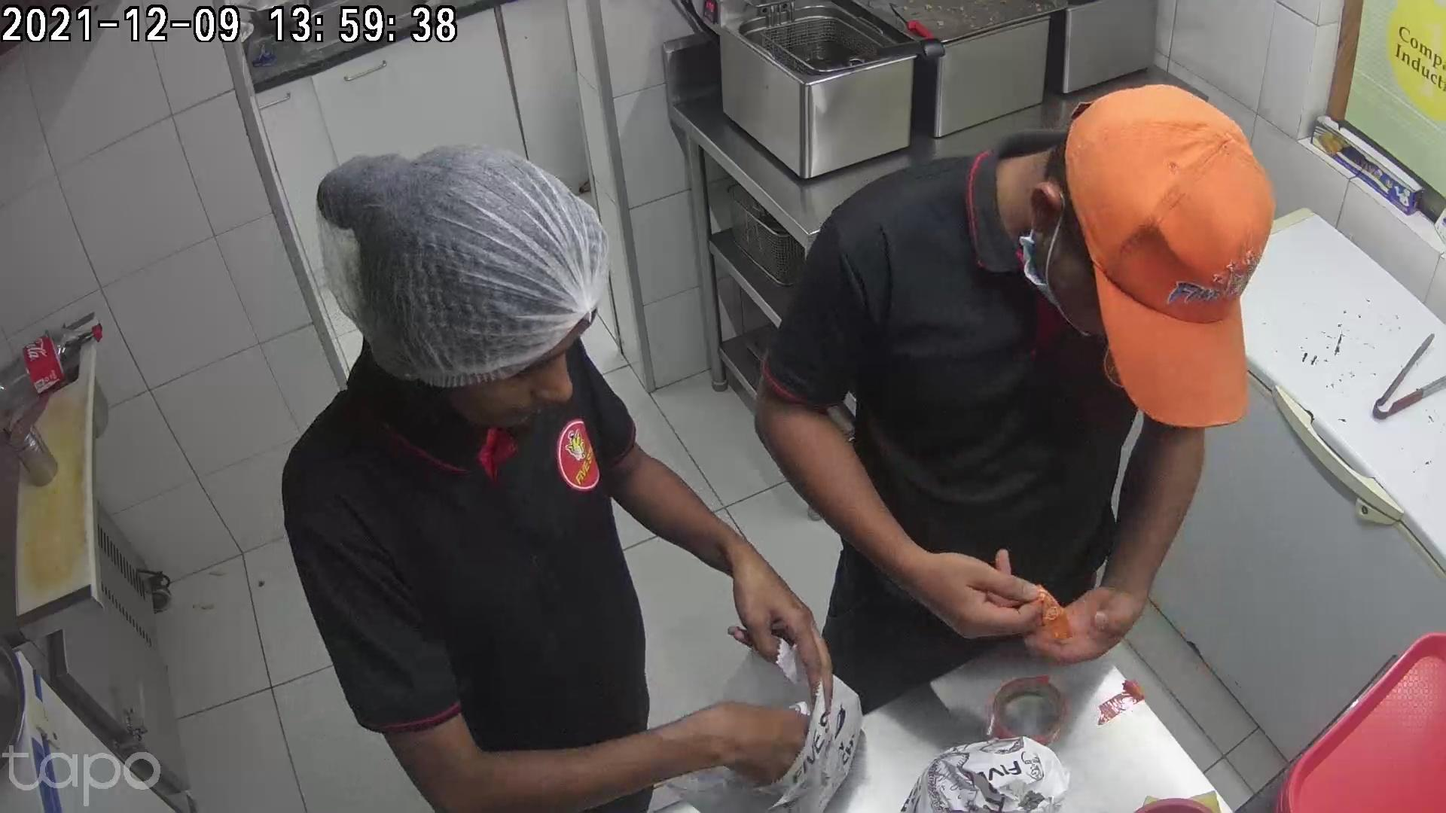no_gloves: (890, 547, 1041, 632)
